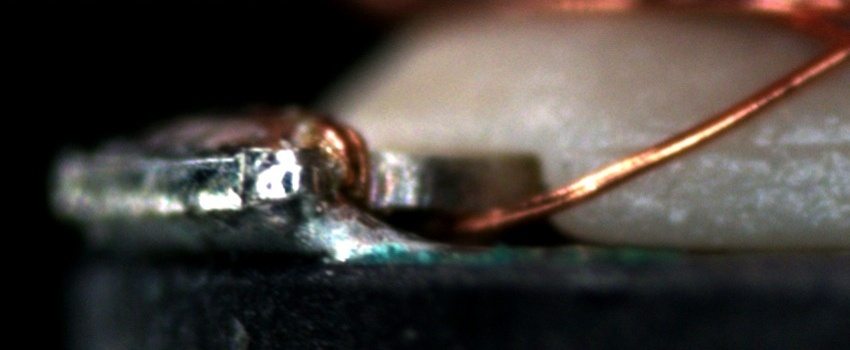DL: (610, 116, 849, 183)
TE: (316, 122, 369, 185)
